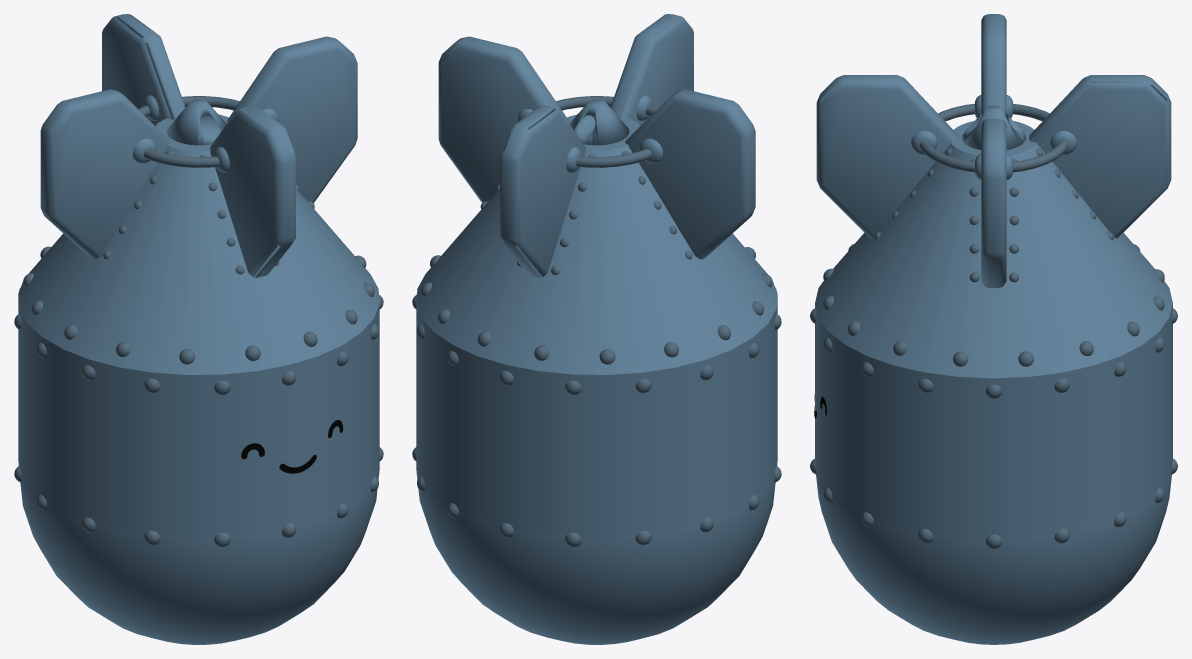
File: bombSmiley.glb
3 renders of one model, left to right at view 1: azimuth 30°, elevation 25°; view 2: azimuth 150°, elevation 25°; view 3: azimuth 270°, elevation 25°, orthographic.
Parts seen in each view (by area): view 1: body, head, Cube.002, Cube.003, Cube.004, Cone, Sphere.010, Torus.001, Sphere, Sphere.001, bombFace; view 2: body, head, Cube.002, Cube.003, Cube.004, Cone, Sphere.010, Torus.001, Sphere, Sphere.001; view 3: body, Cube.003, head, Cube.002, Cube.004, Torus.001, Sphere.010, Sphere, Sphere.001, Cone.
Part boxes in pixels (x1=…): body: x1=18, y1=114, x2=379, y2=537; head: x1=18, y1=459, x2=379, y2=644; Cube.002: x1=40, y1=36, x2=357, y2=259; Cube.003: x1=102, y1=14, x2=295, y2=277; Cube.004: x1=104, y1=15, x2=295, y2=277; Cone: x1=166, y1=99, x2=226, y2=145; Sphere.010: x1=23, y1=246, x2=374, y2=364; Torus.001: x1=138, y1=96, x2=239, y2=167; Sphere: x1=14, y1=447, x2=383, y2=547; Sphere.001: x1=14, y1=288, x2=383, y2=395; bombFace: x1=241, y1=420, x2=343, y2=473; body: x1=416, y1=114, x2=777, y2=537; head: x1=416, y1=459, x2=777, y2=644; Cube.002: x1=438, y1=36, x2=755, y2=259; Cube.003: x1=500, y1=14, x2=693, y2=277; Cube.004: x1=500, y1=14, x2=680, y2=277; Cone: x1=569, y1=99, x2=629, y2=145; Sphere.010: x1=421, y1=247, x2=772, y2=364; Torus.001: x1=556, y1=96, x2=657, y2=167; Sphere: x1=412, y1=447, x2=781, y2=547; Sphere.001: x1=412, y1=288, x2=781, y2=395; body: x1=815, y1=121, x2=1172, y2=538; Cube.003: x1=816, y1=75, x2=1171, y2=238; head: x1=816, y1=468, x2=1171, y2=644; Cube.002: x1=975, y1=14, x2=1012, y2=288; Cube.004: x1=816, y1=75, x2=1171, y2=233; Torus.001: x1=919, y1=103, x2=1068, y2=172; Sphere.010: x1=823, y1=244, x2=1164, y2=366; Sphere: x1=810, y1=458, x2=1177, y2=548; Sphere.001: x1=810, y1=308, x2=1177, y2=398; Cone: x1=962, y1=105, x2=1025, y2=149.
Bounding box in the file's own units: 2.06 × 3.4 × 2.06.
3 materials, 1 textured.
